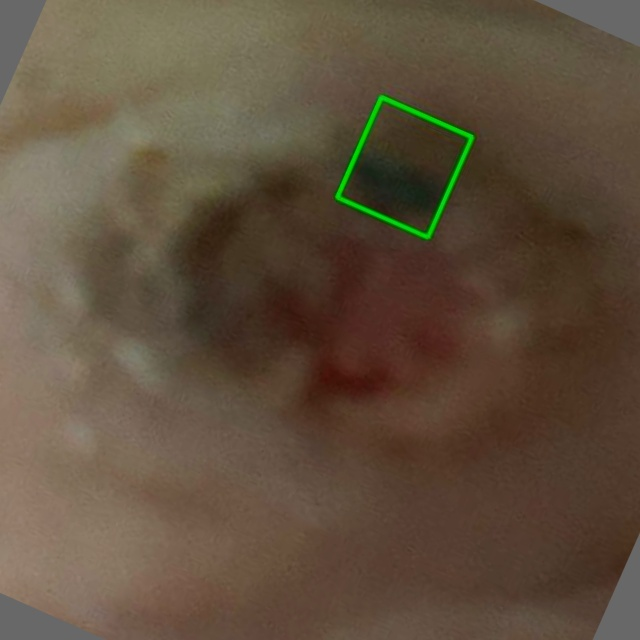Eczema: (337, 97, 471, 237)
